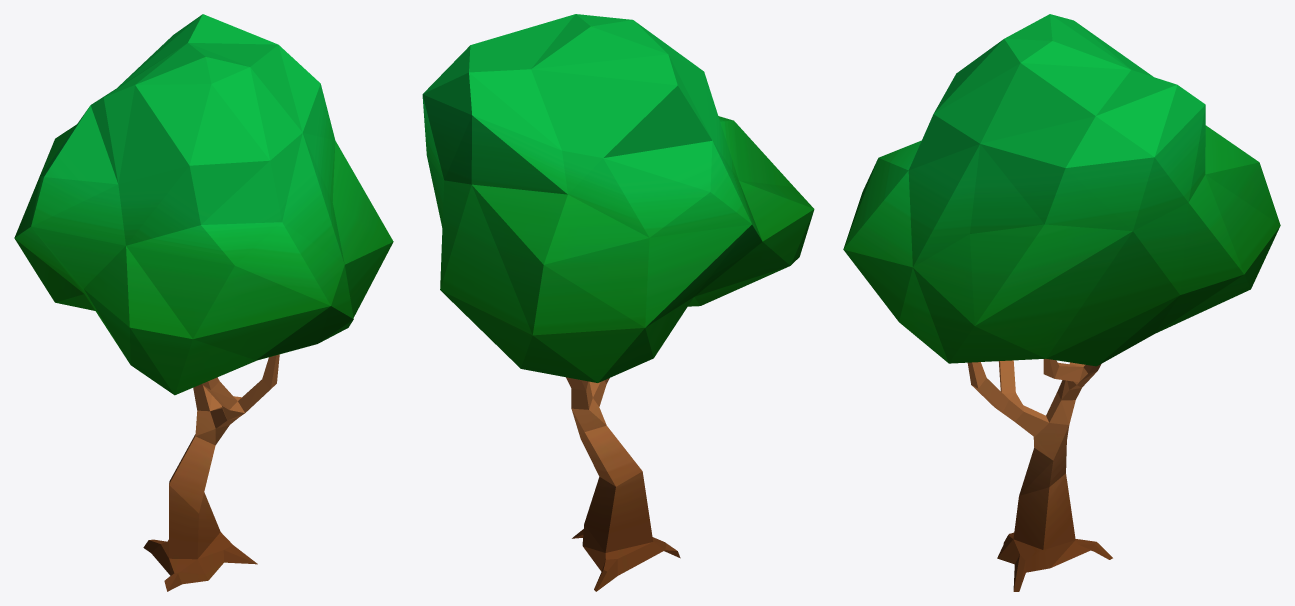
Rendered from tree4.glb.
The picture shows the model from 3 angles, left to right: view 1: azimuth 30°, elevation 25°; view 2: azimuth 150°, elevation 25°; view 3: azimuth 270°, elevation 25°; orthographic projection. The views are drawn at different scales.
Visible parts, largest first — view 1: tree4; view 2: tree4; view 3: tree4.
Part boxes in pixels (x1,y1,x2,y2): tree4: [14, 14, 393, 591]; tree4: [422, 14, 814, 591]; tree4: [843, 14, 1280, 591].
Size of the model in its own units: 6.81 by 10.42 by 7.72.
Materials: 1 (1 with a texture image).
